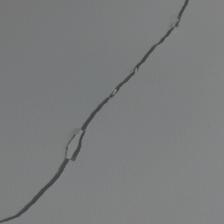Medium: (11, 13, 197, 210)
